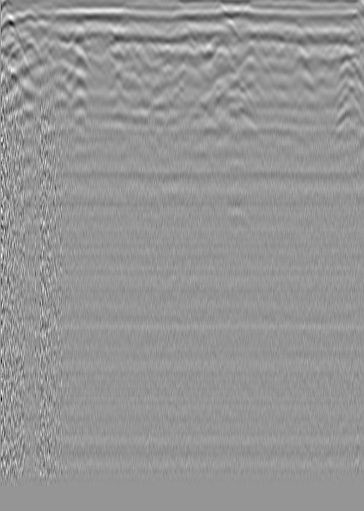가스: (217, 181, 255, 220)
상수: (283, 26, 312, 57)
오수: (16, 40, 46, 66)
우수: (163, 20, 201, 55)
